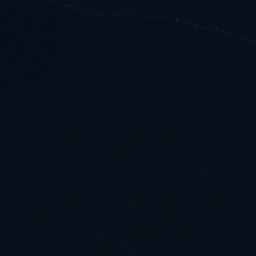Marine Debris: (66, 4, 256, 46)
